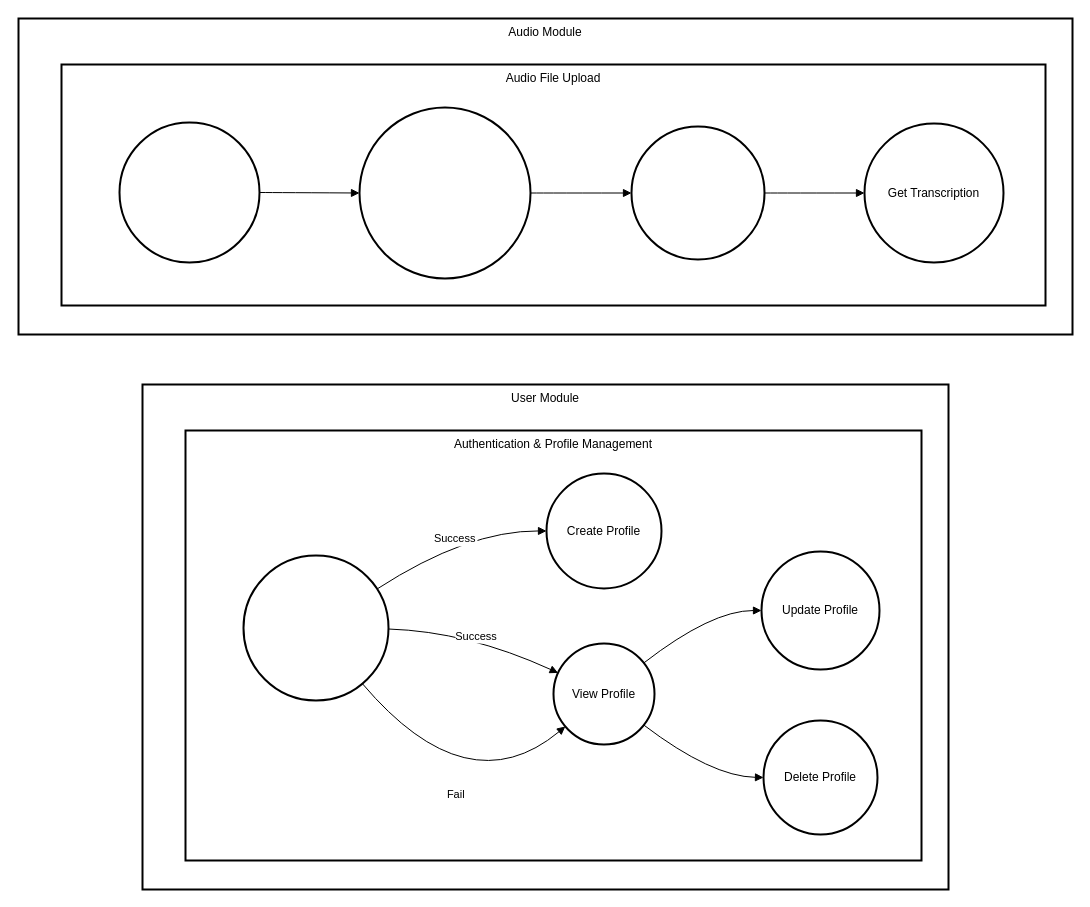
Some shapes in this 1090 by 907 pixel diagram are drawn without their labels. Here are the shapes that lost their labels. From the top down, the centre of each, then its label:
pixel 189 192: Upload Audio File
pixel 444 192: Convert Audio Format
pixel 697 192: Transcribe Audio
pixel 315 627: Authenticate User
